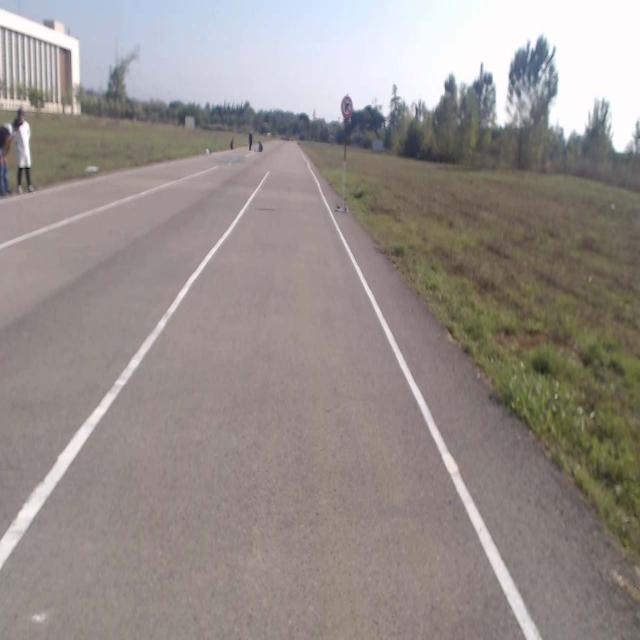sagadonulmez: (340, 94, 351, 116)
